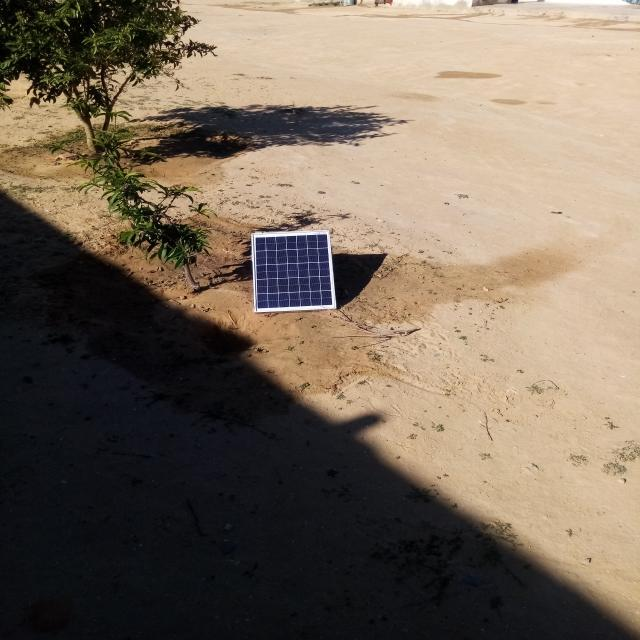no faulty: (252, 230, 336, 312)
